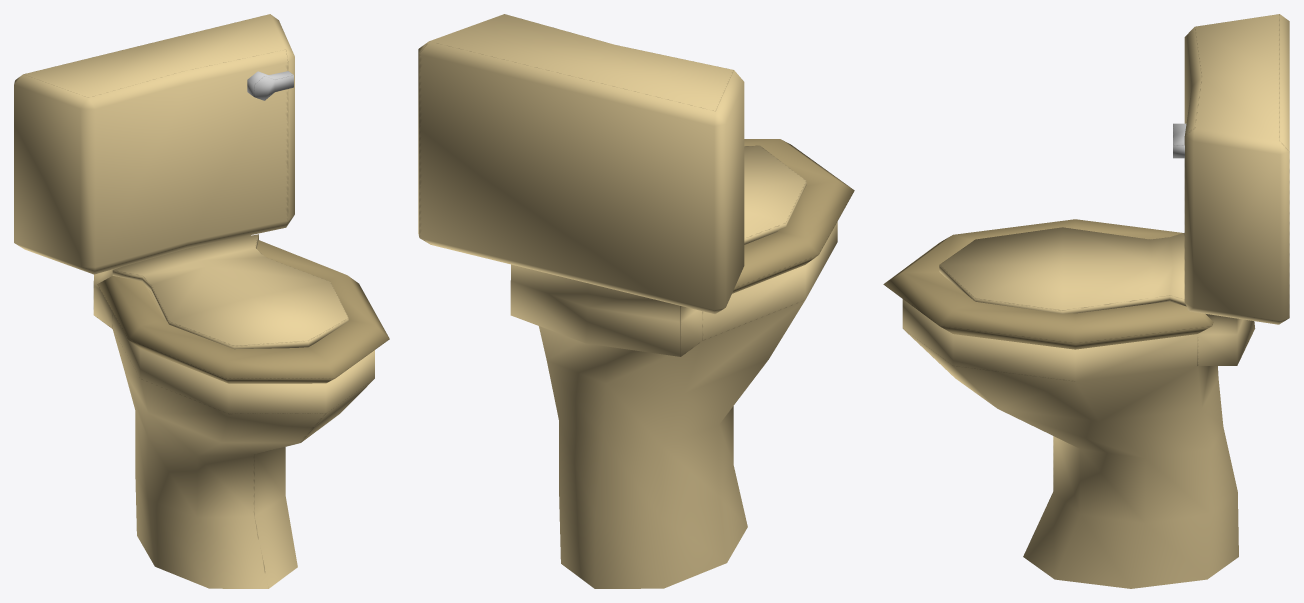
File: Toilet.fbx
3 views of the same model, side by side, from view 1: azimuth 30°, elevation 25°; view 2: azimuth 150°, elevation 25°; view 3: azimuth 270°, elevation 25° (orthographic). The views are drawn at different scales.
Visible parts, largest first — view 1: Privada; view 2: Privada; view 3: Privada.
Part boxes in pixels (x1,y1,x2,y2): Privada: [14, 14, 389, 588]; Privada: [418, 14, 854, 588]; Privada: [883, 14, 1289, 588].
Bounding box in the file's own units: 0.9838 × 1.62 × 1.24.
1 material, 1 textured.
